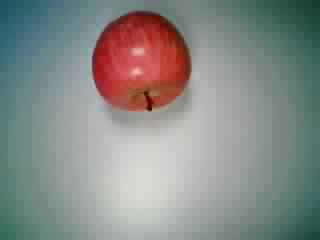apple: (90, 10, 194, 111)
